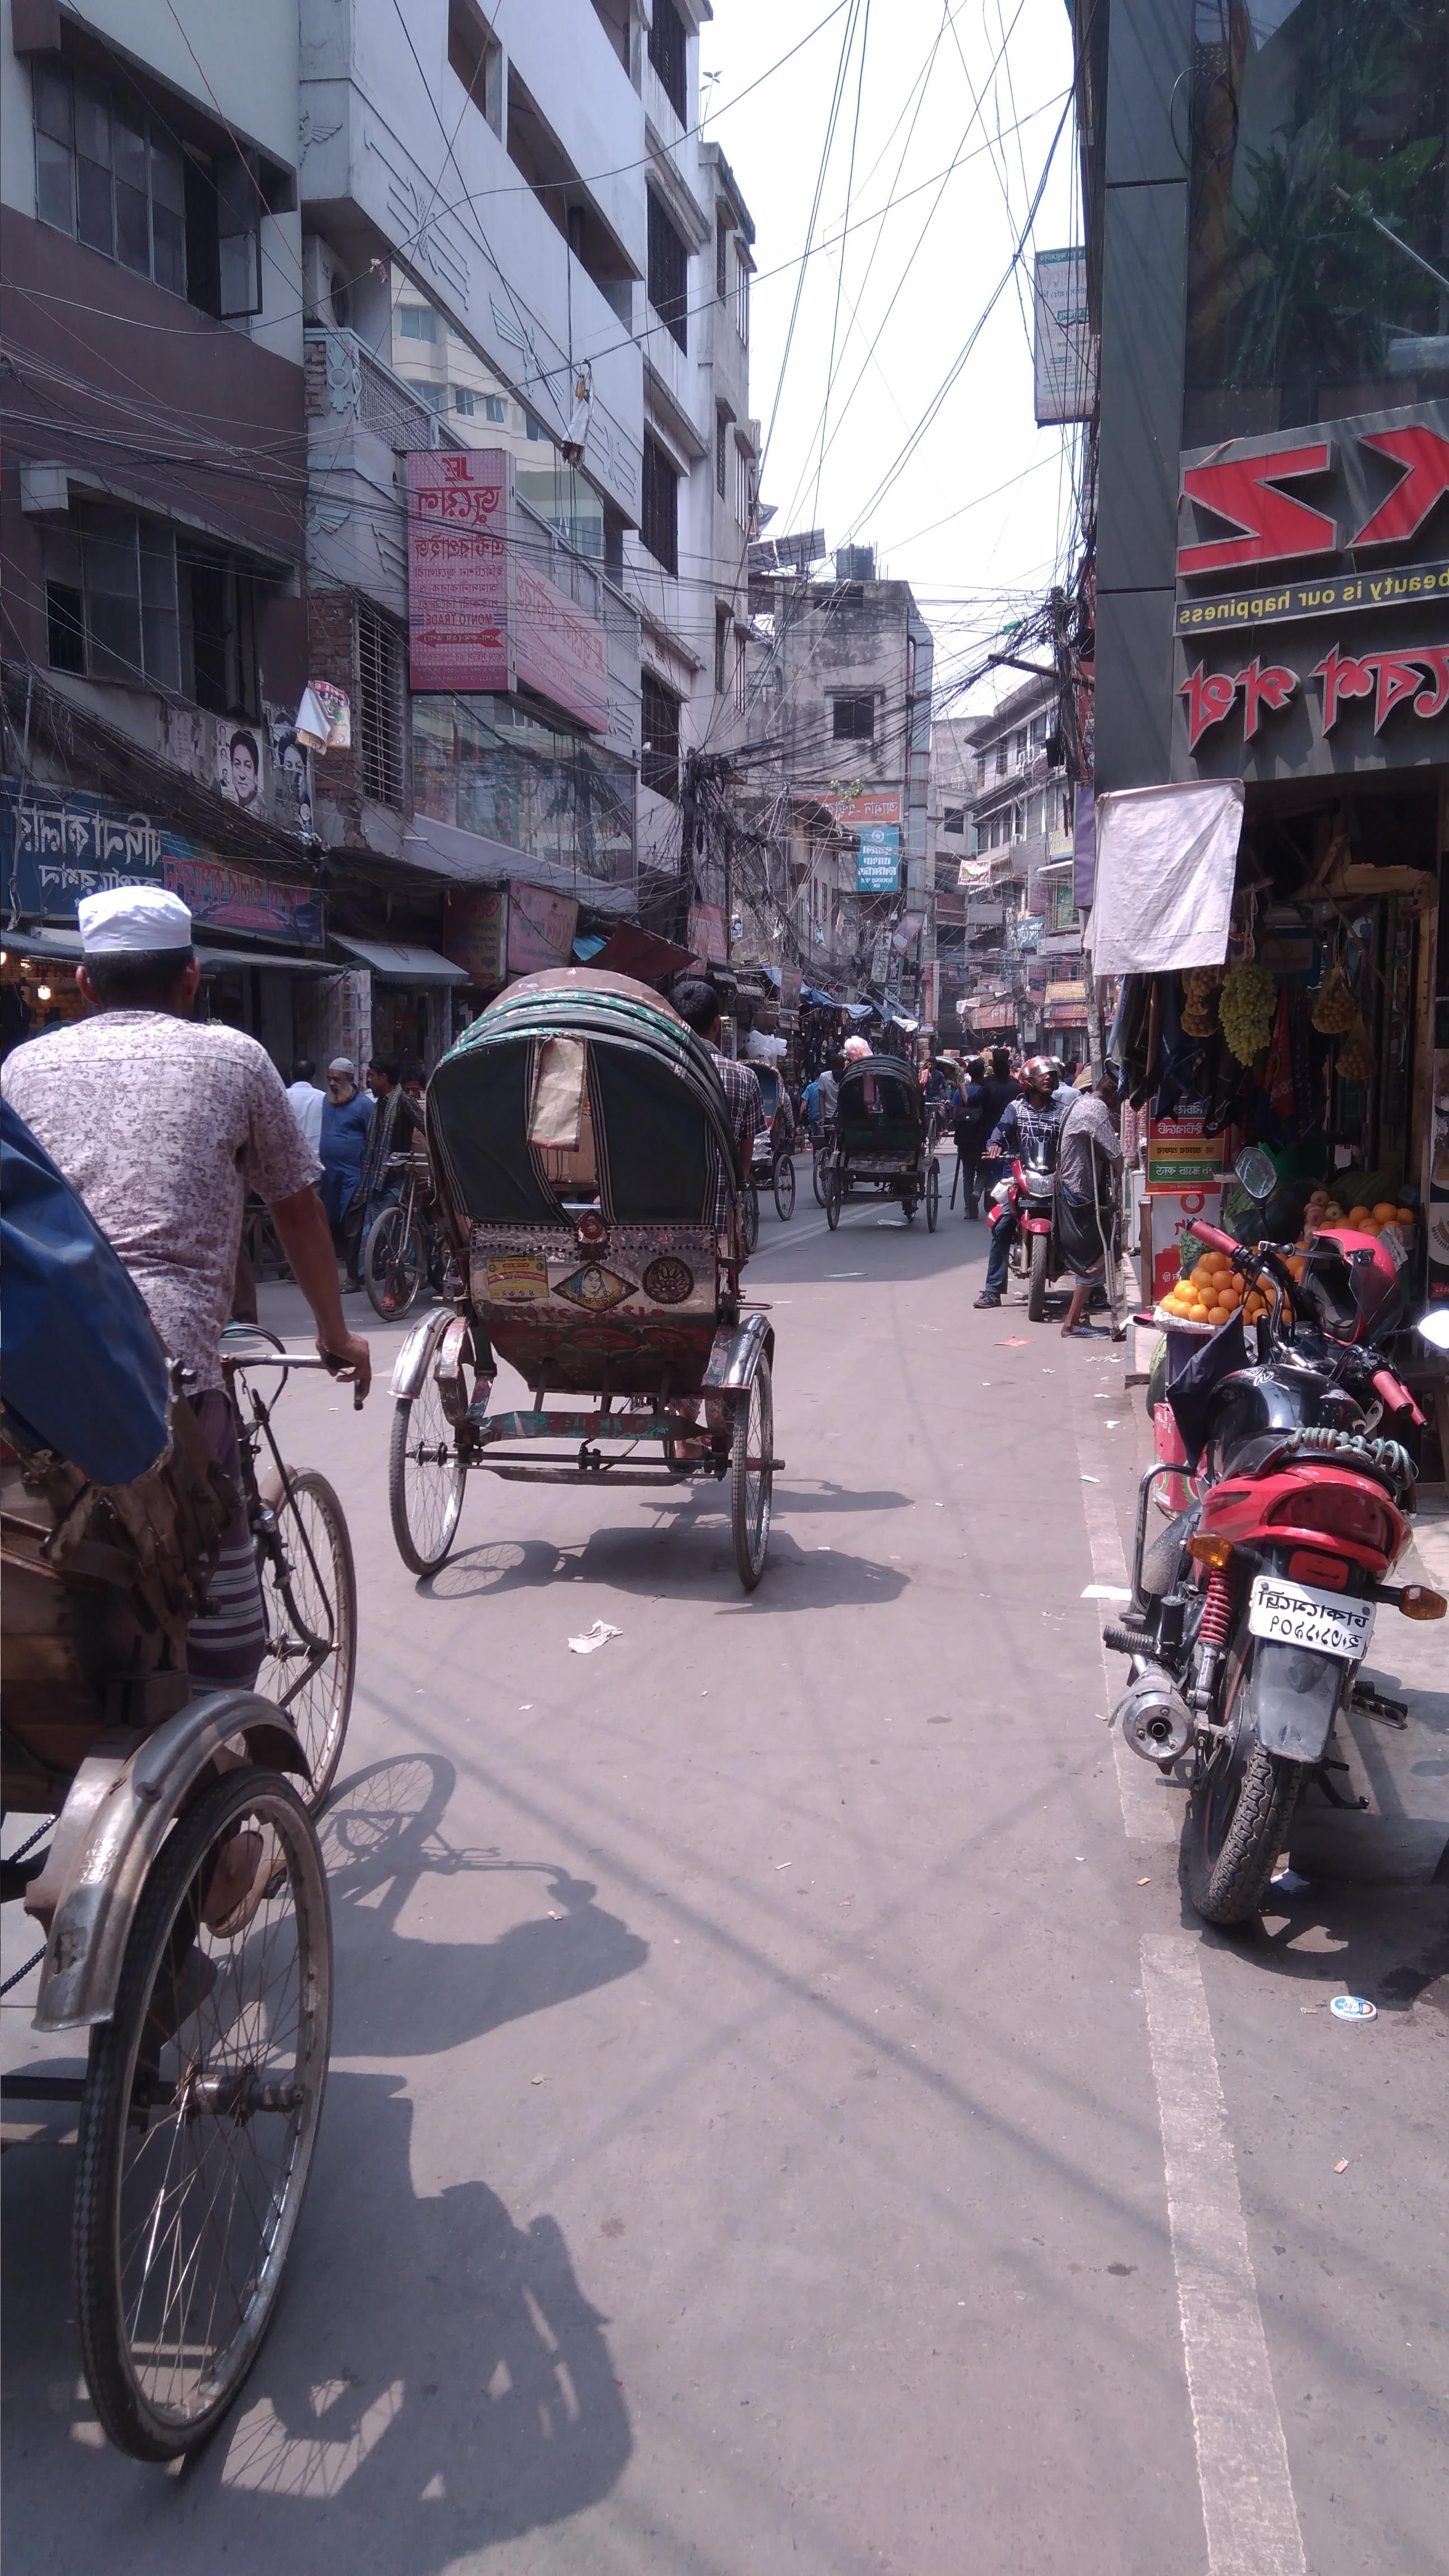Rickshaw: (12, 1069, 359, 2422), (359, 897, 814, 1575), (814, 978, 961, 1247)
